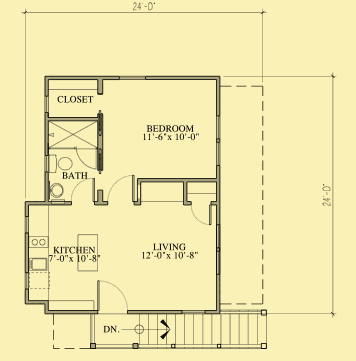door: (96, 278, 127, 311), (106, 172, 136, 204), (69, 177, 96, 202), (188, 202, 213, 228)
large_sink: (47, 151, 75, 178)
stairs: (133, 311, 268, 349)
